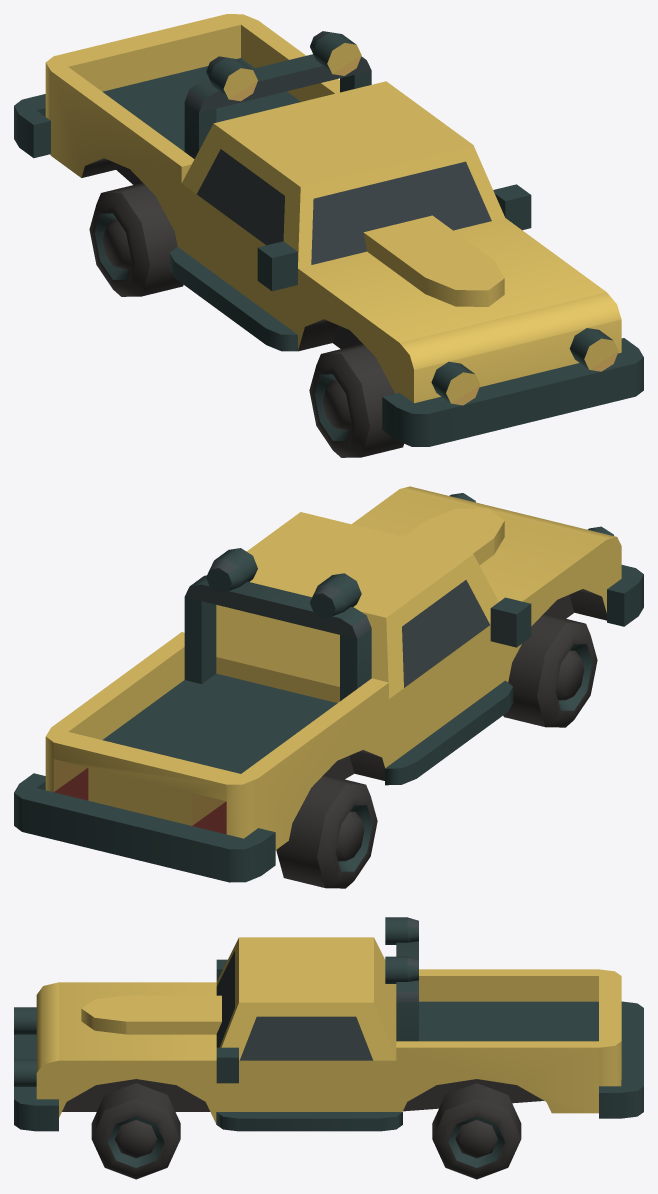
Rendered from truck.glb.
The picture shows the model from 3 angles, top to bottom: view 1: azimuth 30°, elevation 25°; view 2: azimuth 150°, elevation 25°; view 3: azimuth 270°, elevation 25°; orthographic projection. The views are drawn at different scales.
Parts seen in each view (by area): view 1: body, wheel-back-right, wheel-front-right; view 2: body, wheel-back-right, wheel-front-right; view 3: body, wheel-back-left, wheel-front-left.
Boxes of the visible parts, left/top/right/bottom form: body: left=14, top=14, right=643, bottom=446; wheel-back-right: left=89, top=183, right=183, bottom=296; wheel-front-right: left=309, top=344, right=403, bottom=457; body: left=14, top=486, right=643, bottom=882; wheel-back-right: left=276, top=774, right=377, bottom=888; wheel-front-right: left=503, top=613, right=597, bottom=727; body: left=14, top=917, right=643, bottom=1131; wheel-back-left: left=432, top=1083, right=521, bottom=1179; wheel-front-left: left=91, top=1083, right=180, bottom=1179.
Bounding box in the file's own units: 1.03 × 0.9774 × 2.8.
